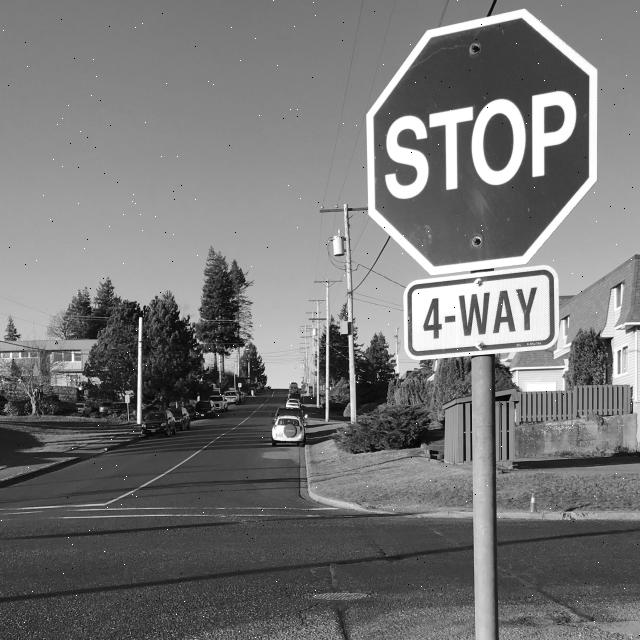Stop-sign: (350, 0, 616, 267)
